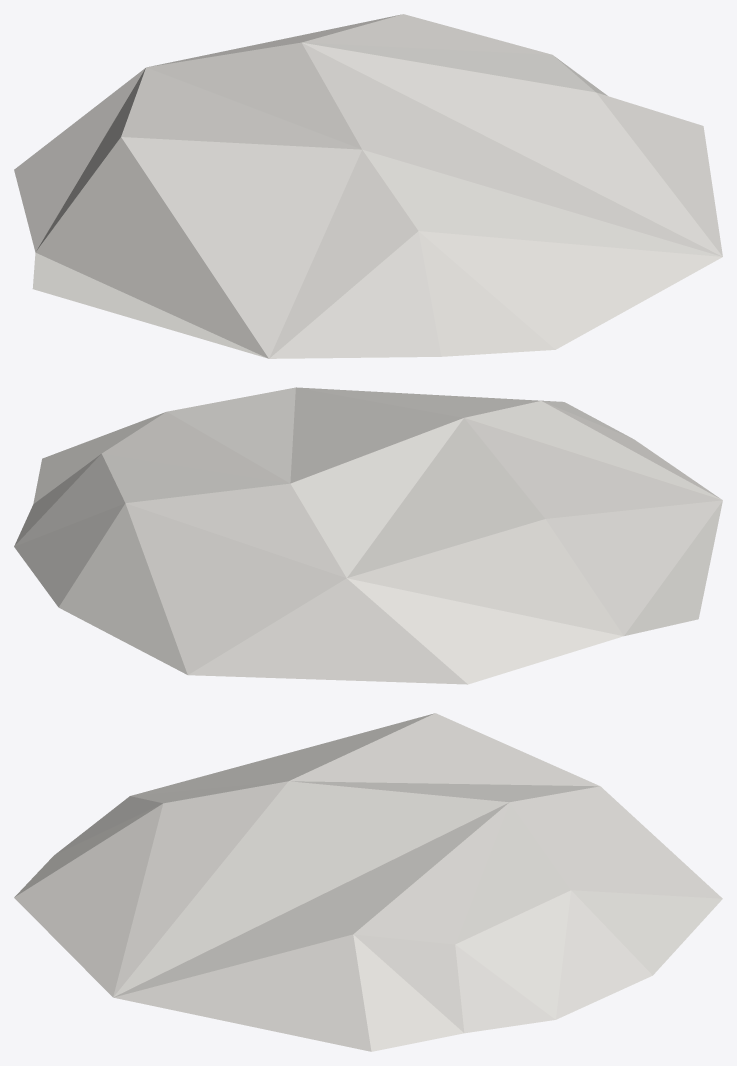
File: SM_Prop_Plate_Large_Grain_04.glb
3 renders of one model, top to bottom at view 1: azimuth 30°, elevation 25°; view 2: azimuth 150°, elevation 25°; view 3: azimuth 270°, elevation 25°, orthographic. The views are drawn at different scales.
Parts seen in each view (by area): view 1: SM_Prop_Plate_Large_Grain_04; view 2: SM_Prop_Plate_Large_Grain_04; view 3: SM_Prop_Plate_Large_Grain_04.
Part boxes in pixels (x1,y1,x2,y2): SM_Prop_Plate_Large_Grain_04: [14, 14, 722, 358]; SM_Prop_Plate_Large_Grain_04: [14, 387, 722, 684]; SM_Prop_Plate_Large_Grain_04: [14, 713, 722, 1051].
Bounding box in the file's own units: 0.8003 × 0.1242 × 0.7894.
Materials: 1 (1 with a texture image).
